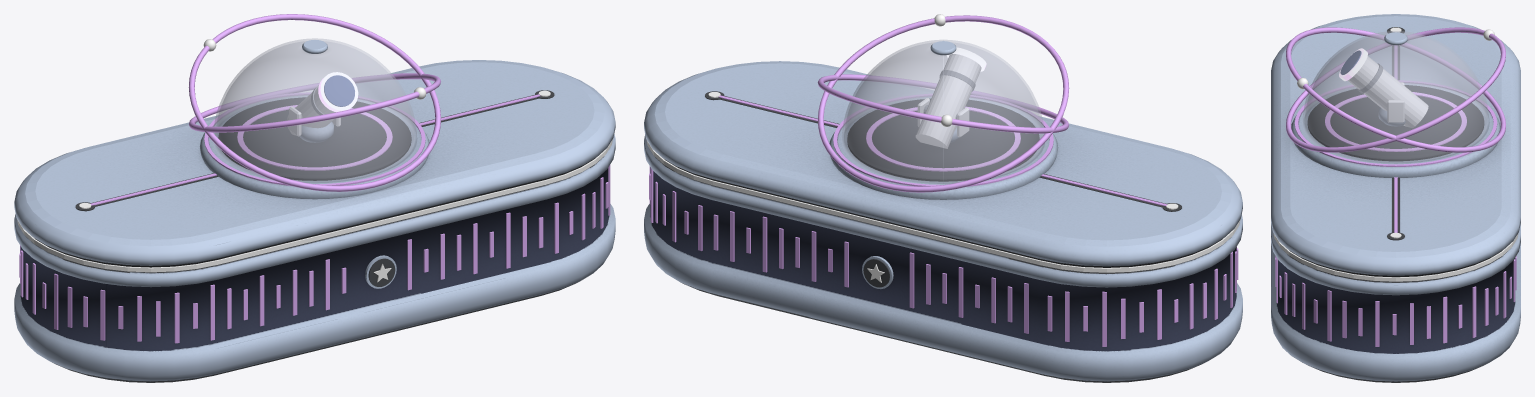
Rendered from SM_Evo_ResearchComplex.fbx.
3 views of the same model, side by side, from view 1: azimuth 30°, elevation 25°; view 2: azimuth 150°, elevation 25°; view 3: azimuth 270°, elevation 25° (orthographic). The views are drawn at different scales.
Visible parts, largest first — view 1: SMN_Evo_ResearchComplex, Emblem_Fx_ResearchComplex, SpinOrbit_ResearchComplex_A, SpinOrbit_ResearchComplex_B, SpinDish_ResearchComplex; view 2: SMN_Evo_ResearchComplex, Emblem_Fx_ResearchComplex, SpinOrbit_ResearchComplex_B, SpinDish_ResearchComplex, SpinOrbit_ResearchComplex_A; view 3: SMN_Evo_ResearchComplex, Emblem_Fx_ResearchComplex, SpinDish_ResearchComplex, SpinOrbit_ResearchComplex_B, SpinOrbit_ResearchComplex_A.
Boxes of the visible parts, x1,y1,x2,y2 form: SMN_Evo_ResearchComplex: (14, 40, 615, 382); Emblem_Fx_ResearchComplex: (17, 38, 612, 343); SpinOrbit_ResearchComplex_A: (188, 14, 441, 191); SpinOrbit_ResearchComplex_B: (189, 73, 440, 132); SpinDish_ResearchComplex: (287, 72, 358, 136); SMN_Evo_ResearchComplex: (644, 41, 1242, 382); Emblem_Fx_ResearchComplex: (646, 39, 1240, 346); SpinOrbit_ResearchComplex_B: (817, 14, 1069, 192); SpinDish_ResearchComplex: (915, 47, 986, 148); SpinOrbit_ResearchComplex_A: (817, 74, 1068, 133); SMN_Evo_ResearchComplex: (1271, 14, 1520, 382); Emblem_Fx_ResearchComplex: (1273, 27, 1518, 346); SpinDish_ResearchComplex: (1339, 48, 1428, 127); SpinOrbit_ResearchComplex_B: (1286, 27, 1505, 152); SpinOrbit_ResearchComplex_A: (1286, 27, 1505, 152).
Bounding box in the file's own units: 1.72 × 0.73 × 0.72.
